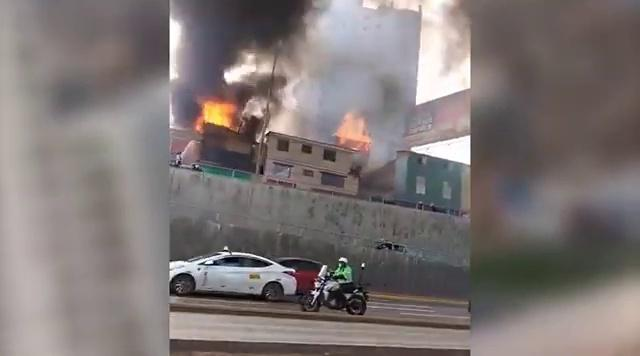fire: (196, 99, 240, 124), (340, 115, 371, 147)
smoke: (317, 15, 389, 99), (180, 9, 225, 90)
